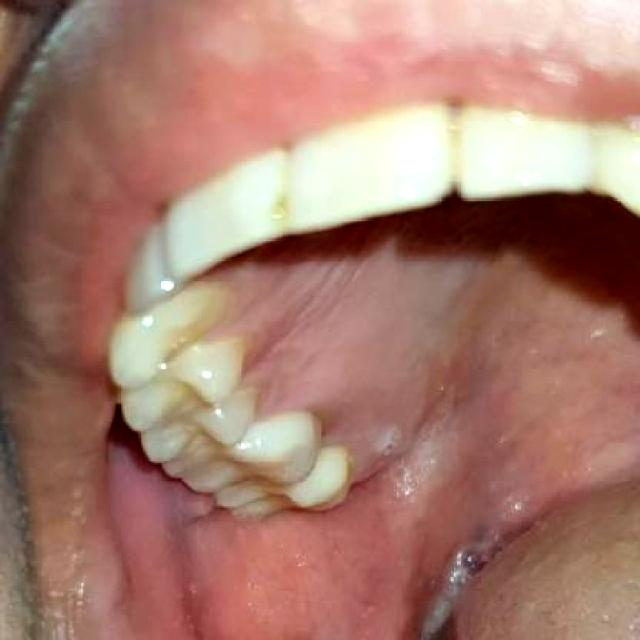Plaque: (196, 272, 295, 421)
